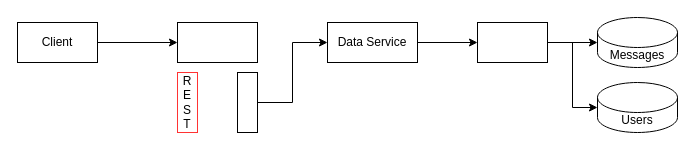
Image size: 695x150. Some labels were removed from this diagram. The centre of each missing label's shape, as x and y in pixels:
API: (x=217, y=42)
Cache: (x=512, y=42)
g R P C: (x=247, y=102)
